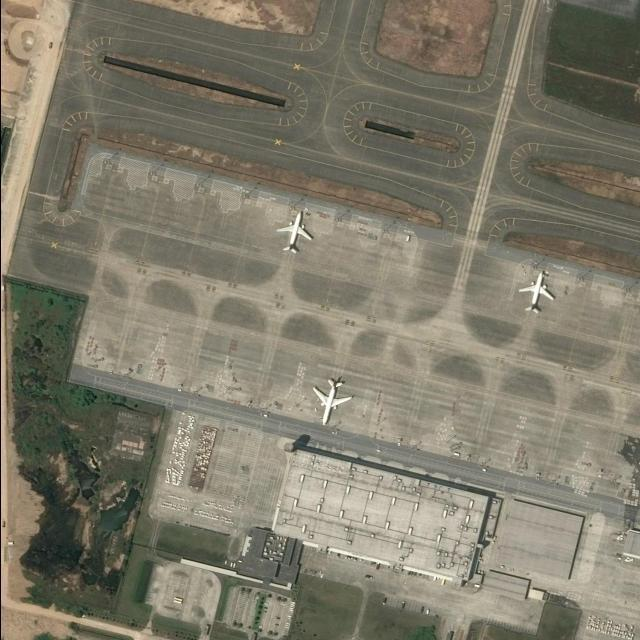Aircraft: (309, 376, 354, 427), (518, 268, 556, 316), (276, 211, 315, 253)
